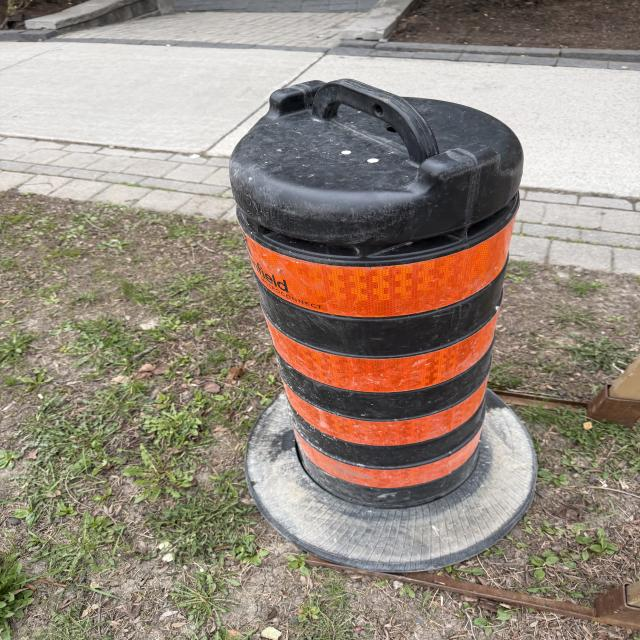Teraffic Barrel: (230, 80, 535, 570)
